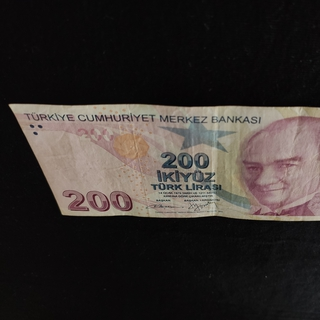200TLFront: (8, 102, 320, 222)
